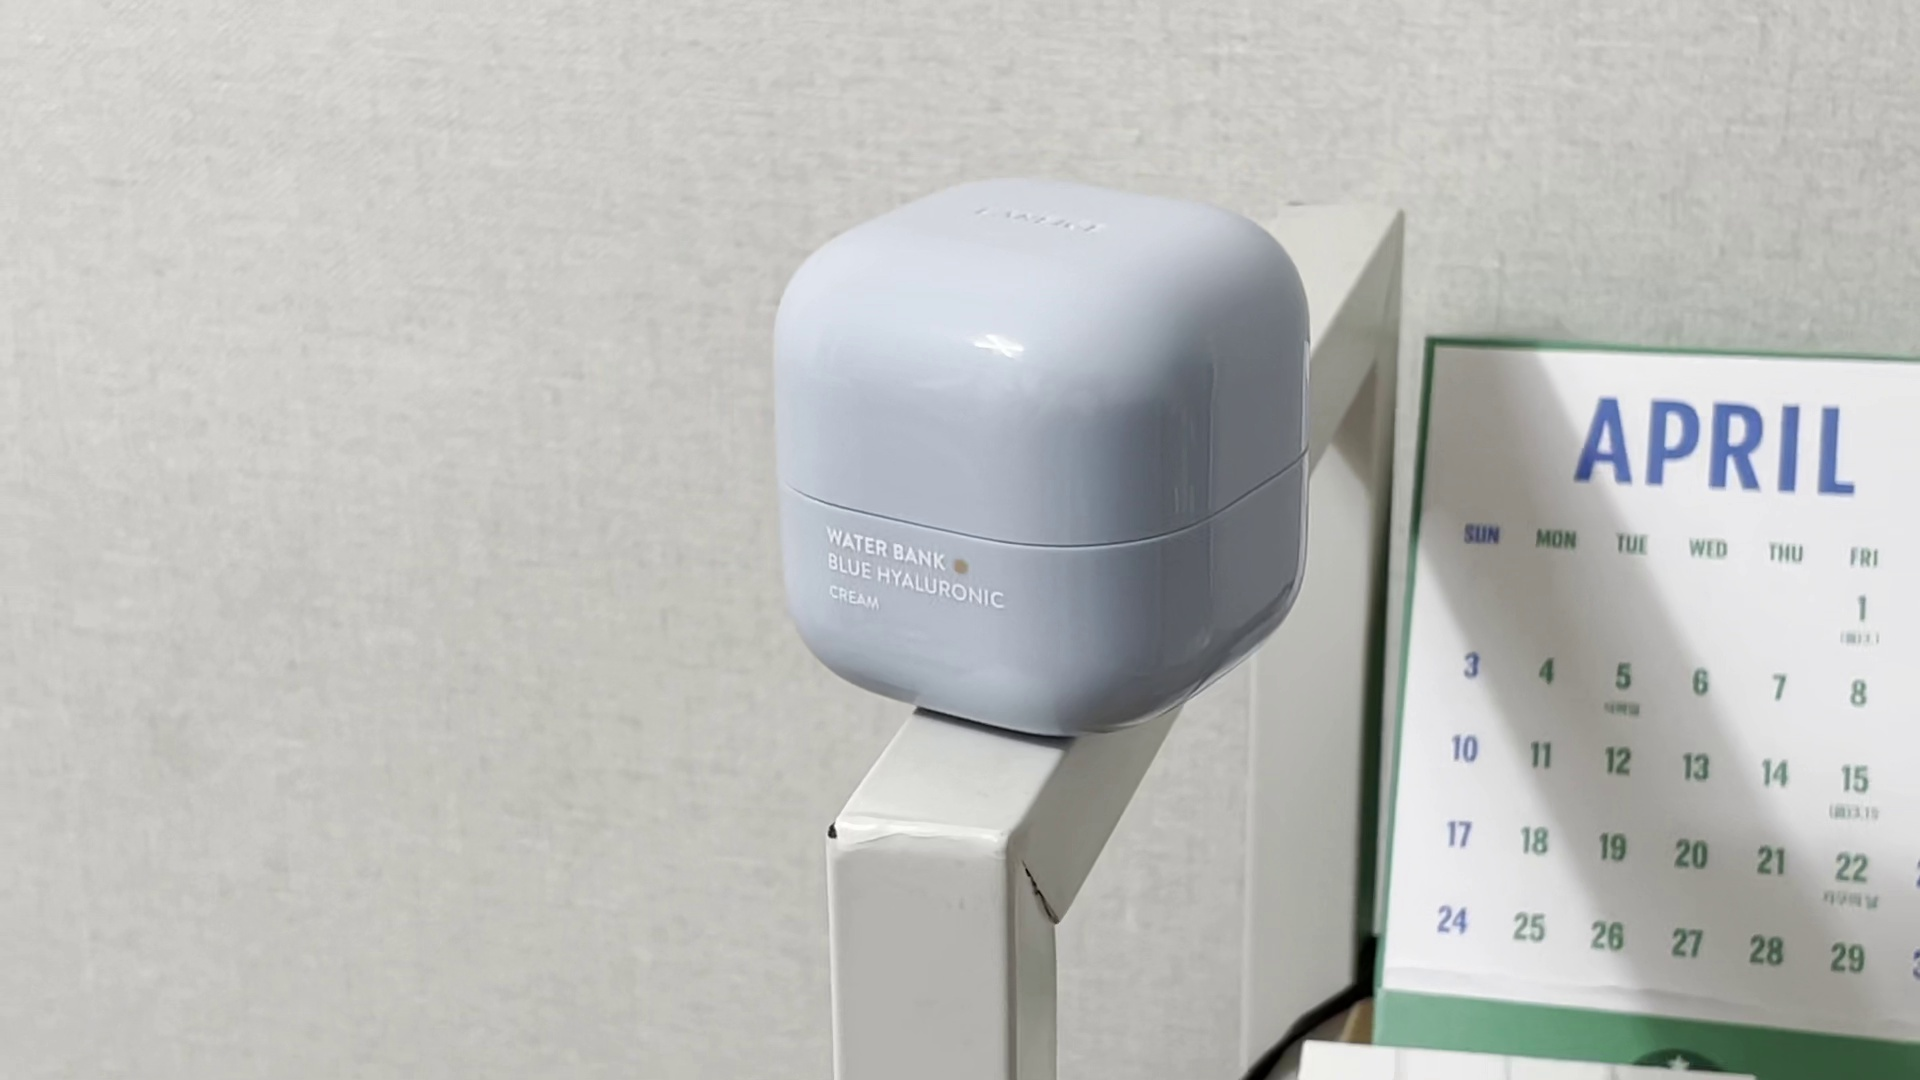cream: (773, 170, 1312, 735)
